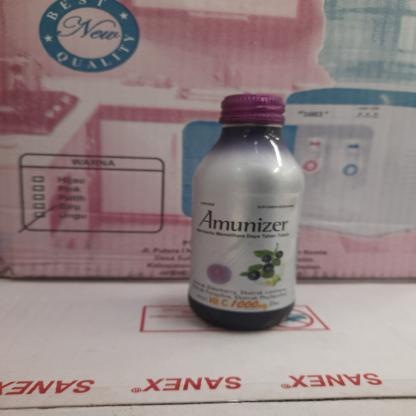keyboard: (178, 87, 304, 334)
